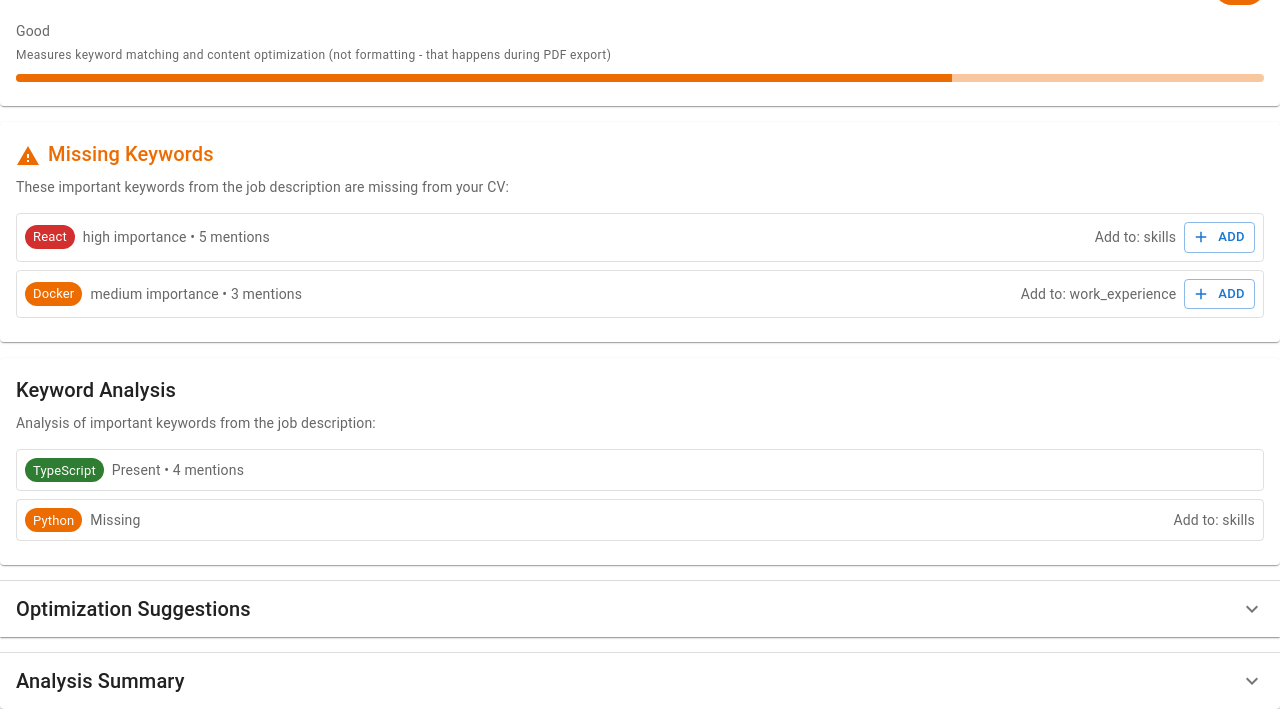
Scenario: ATSOptimization › Optimization Suggestions › expands to show general recommendations
This screenshot has width=1280, height=709.
(page scrolled)
Click the button "Optimization Suggestions". click: x=133, y=609
box: [16,597,1264,621]
(page scrolled)
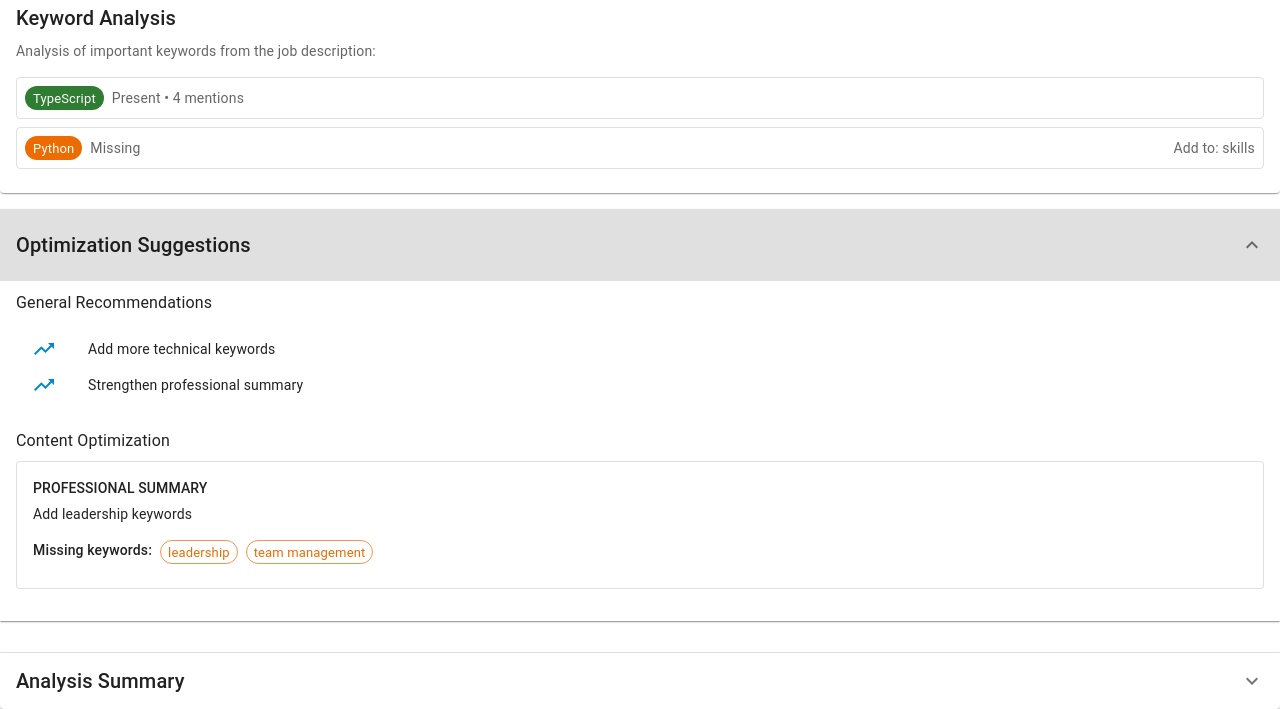
Now the heading "General Recommendations" is shown, box [16,293,212,312]
Now the text "Add more technical keywords" is shown, box [88,341,275,357]
Now the text "Strengthen professional summary" is shown, box [88,377,303,393]
